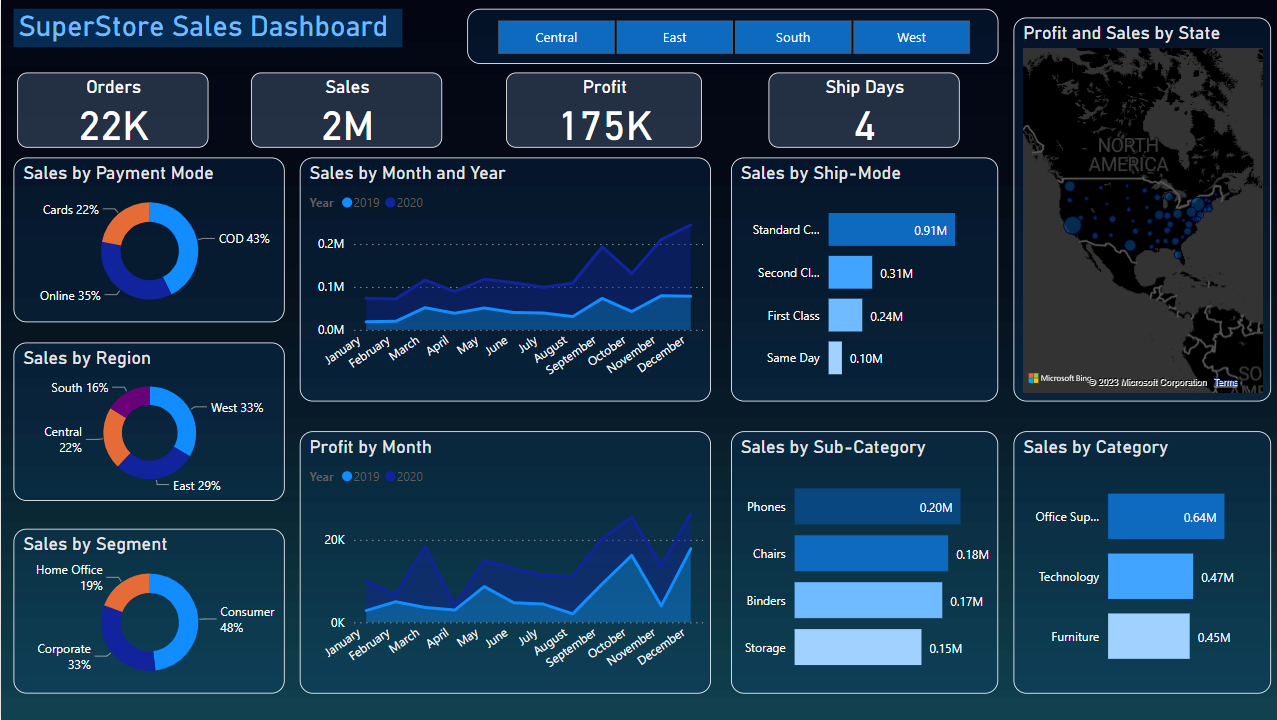

The page's visual inventory and layout, read from the dashboard file:
{"tool":"powerbi","page":{"name":"Page 1","canvas":[1280,720],"ordinal":0},"visuals":[{"type":"clusteredBarChart","title":"Sales by Ship-Mode","fields":{"Category":["Sheet1.Ship Mode"],"Y":["Sum(Sheet1.Sales)"]},"box":[730,157.5,267.5,243.8],"z":0},{"type":"clusteredBarChart","title":"Sales by Category","fields":{"Category":["Sheet1.Category"],"Y":["Sum(Sheet1.Sales)"]},"box":[1012.5,431.2,257.5,262.5],"z":1000},{"type":"clusteredBarChart","title":"Sales by Sub-Category","fields":{"Category":["Sheet1.Sub-Category","Sheet1.Category"],"Y":["Sum(Sheet1.Sales)"]},"box":[730,431.2,267.5,262.5],"z":2000},{"type":"map","title":"Profit and Sales by State","fields":{"Category":["Sheet1.State"],"Size":["Sum(Sheet1.Sales)"]},"box":[1012.5,17.5,257.5,383.8],"z":3000},{"type":"donutChart","title":"Sales by Payment Mode","fields":{"Category":["Sheet1.Payment Mode"],"Y":["Sum(Sheet1.Sales)"]},"box":[12.5,157.5,271.2,165],"z":4000},{"type":"donutChart","title":"Sales by Region","fields":{"Y":["Sum(Sheet1.Sales)"],"Category":["Sheet1.Region"]},"box":[12.5,342.5,271.2,158.8],"z":5000},{"type":"donutChart","title":"Sales by Segment","fields":{"Y":["Sum(Sheet1.Sales)"],"Category":["Sheet1.Segment"]},"box":[12.5,528.8,271.2,165],"z":6000},{"type":"stackedAreaChart","title":"Sales by Month and Year","fields":{"Category":["Sheet1.Order Date.Variation.Date Hierarchy.Month"],"Y":["Sum(Sheet1.Sales)"],"Series":["Sheet1.Order Date.Variation.Date Hierarchy.Year"]},"box":[298.8,157.5,411.2,243.8],"z":7000},{"type":"stackedAreaChart","title":"Profit by Month","fields":{"Y":["Sum(Sheet1.Profit)"],"Category":["Sheet1.Order Date.Variation.Date Hierarchy.Month"],"Series":["Sheet1.Order Date.Variation.Date Hierarchy.Year"]},"box":[298.8,431.2,411.2,262.5],"z":8000},{"type":"slicer","fields":{"Values":["Sheet1.Region"]},"box":[466.2,8.8,531.2,55],"z":9000},{"type":"textbox","title":"SuperStore Sales Dashboard","box":[12.5,8.8,388.8,38.8],"z":10000},{"type":"card","title":"Sales","fields":{"Values":["Sum(Sheet1.Sales)"]},"box":[250,72.5,191.2,75],"z":11000},{"type":"card","title":"Orders","fields":{"Values":["Sum(Sheet1.Quantity)"]},"box":[16.2,72.5,191.2,75],"z":12000},{"type":"card","title":"Profit","fields":{"Values":["Sum(Sheet1.Profit)"]},"box":[505,72.5,196.2,75],"z":13000},{"type":"card","title":"Ship Days","fields":{"Values":["Avg(Sheet1.AverageDeliveryDate)"]},"box":[767.5,72.5,191.2,75],"z":14000}]}

Visuals, with their boxes in screenshot pixels (x1, y1, x2, y2), scaled from the page's 1280x720 canvas onto the 1277x720 screenshot:
"Sales by Ship-Mode" clusteredBarChart: rect(728, 158, 995, 401)
"Sales by Category" clusteredBarChart: rect(1010, 431, 1267, 694)
"Sales by Sub-Category" clusteredBarChart: rect(728, 431, 995, 694)
"Profit and Sales by State" map: rect(1010, 18, 1267, 401)
"Sales by Payment Mode" donutChart: rect(12, 158, 283, 322)
"Sales by Region" donutChart: rect(12, 342, 283, 501)
"Sales by Segment" donutChart: rect(12, 529, 283, 694)
"Sales by Month and Year" stackedAreaChart: rect(298, 158, 708, 401)
"Profit by Month" stackedAreaChart: rect(298, 431, 708, 694)
slicer - Sheet1.Region: rect(465, 9, 995, 64)
"SuperStore Sales Dashboard" textbox: rect(12, 9, 400, 48)
"Sales" card: rect(249, 72, 440, 148)
"Orders" card: rect(16, 72, 207, 148)
"Profit" card: rect(504, 72, 700, 148)
"Ship Days" card: rect(766, 72, 956, 148)
